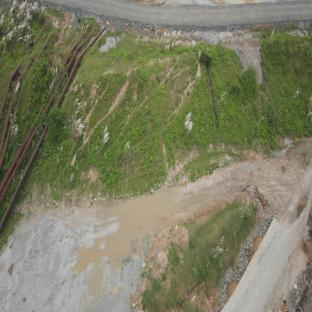rock_toe: (43, 160, 245, 208)
slope_drain: (205, 59, 219, 129)
vegetation: (46, 101, 67, 155), (232, 70, 257, 97), (196, 49, 219, 62)
